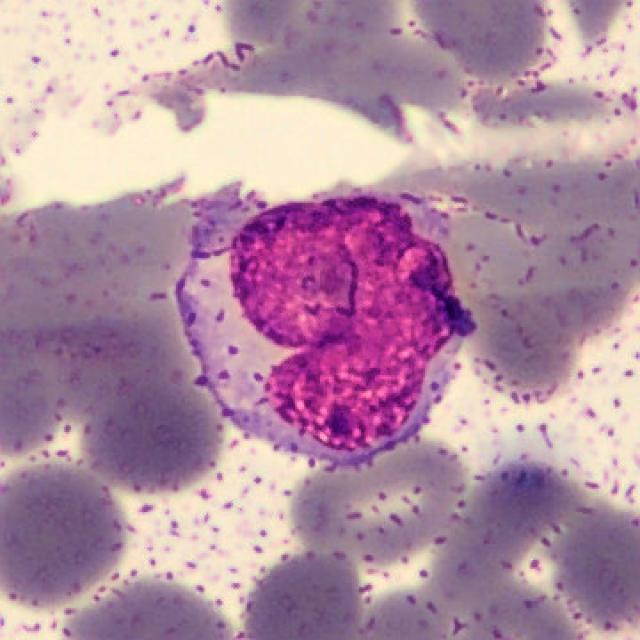Mieloblasto: (180, 196, 475, 469)
